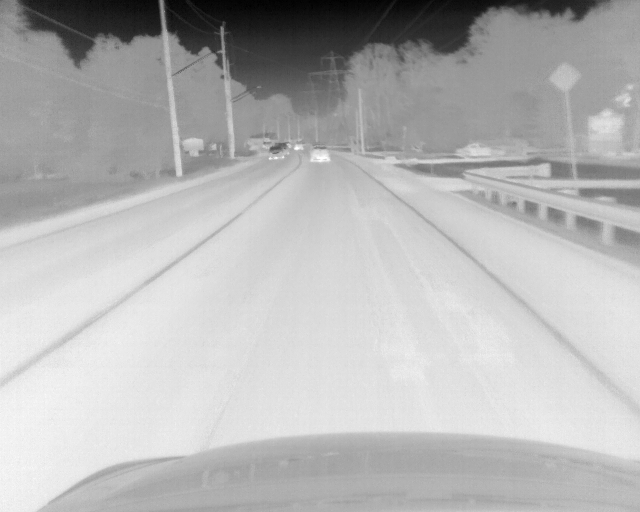car: (456, 142, 500, 157), (308, 145, 330, 163), (268, 147, 284, 160), (275, 143, 290, 155), (293, 142, 303, 152), (262, 140, 272, 149)
